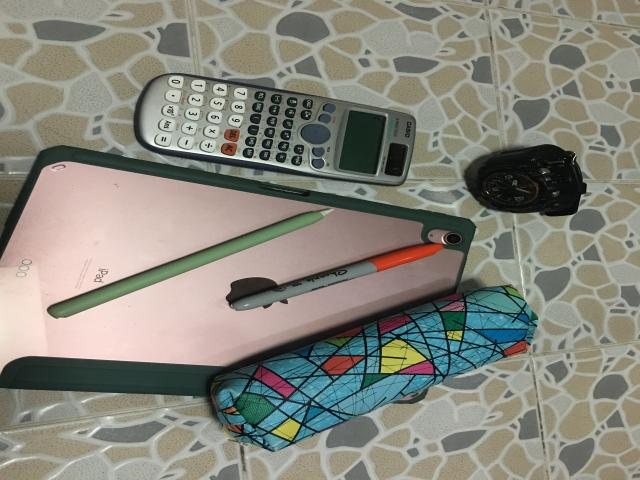Pen: (230, 243, 443, 310)
Watch: (470, 144, 587, 217)
